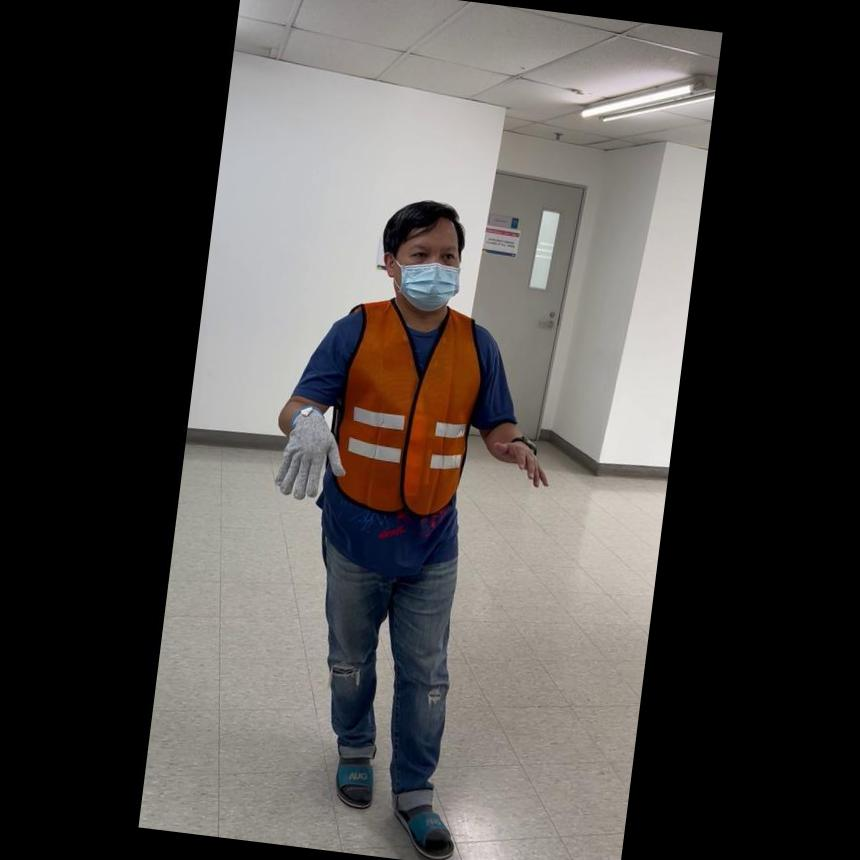Gloves: (269, 398, 354, 503)
No-gloves: (490, 430, 553, 490)
